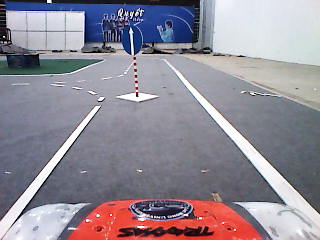straight: (120, 24, 144, 57)
